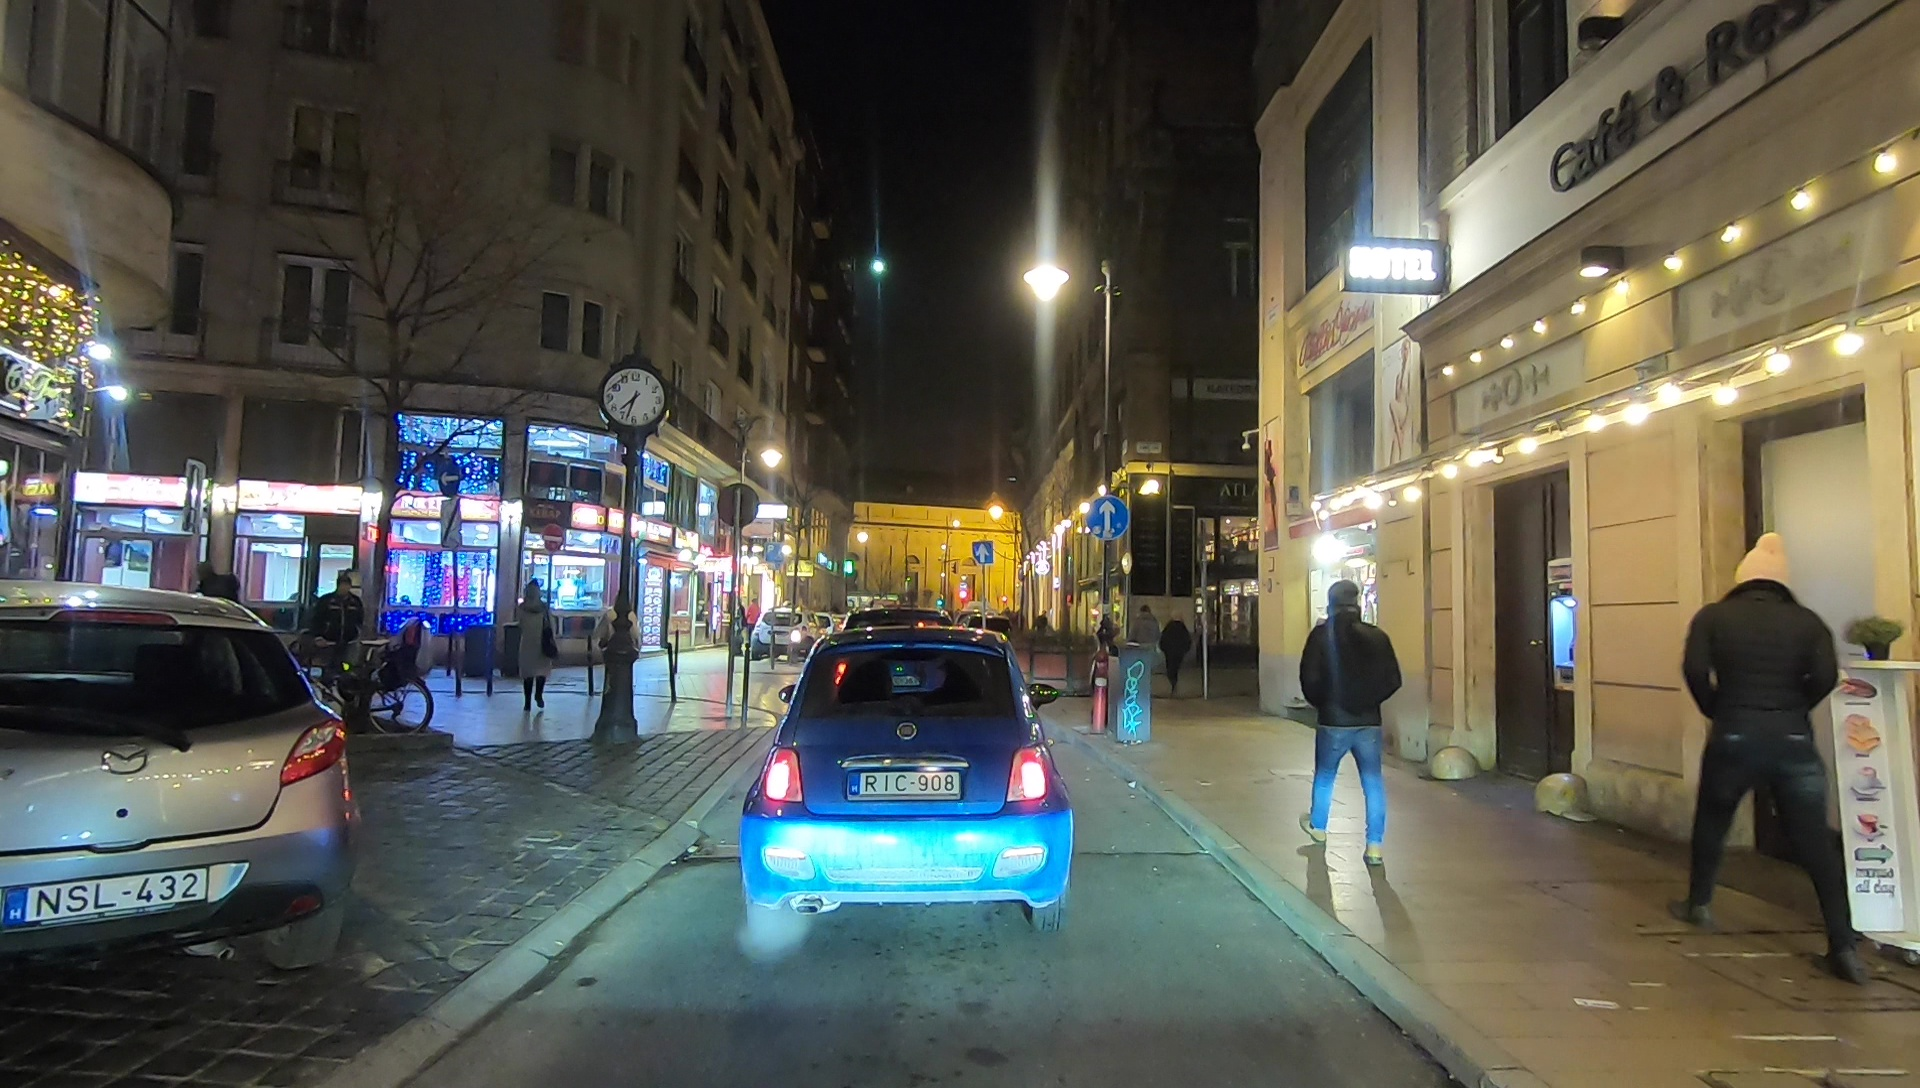person: (1671, 521, 1875, 1004), (1293, 576, 1404, 871), (191, 567, 238, 706), (315, 578, 364, 704), (593, 599, 645, 713), (517, 584, 558, 715), (1132, 600, 1160, 704), (1160, 613, 1189, 700), (747, 599, 760, 647)
